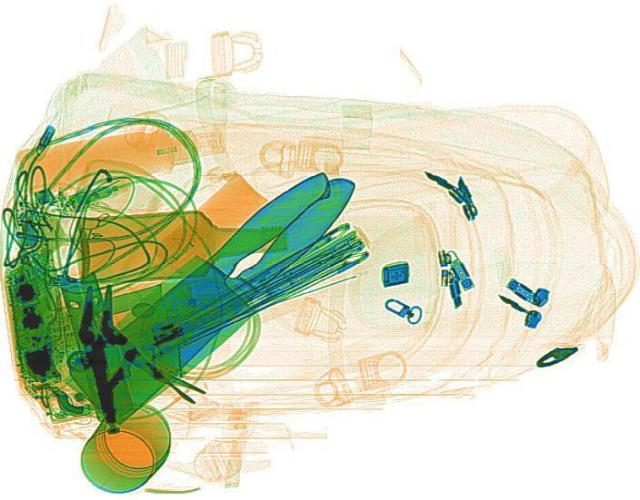Knife: (39, 153, 378, 425), (49, 163, 379, 422)
